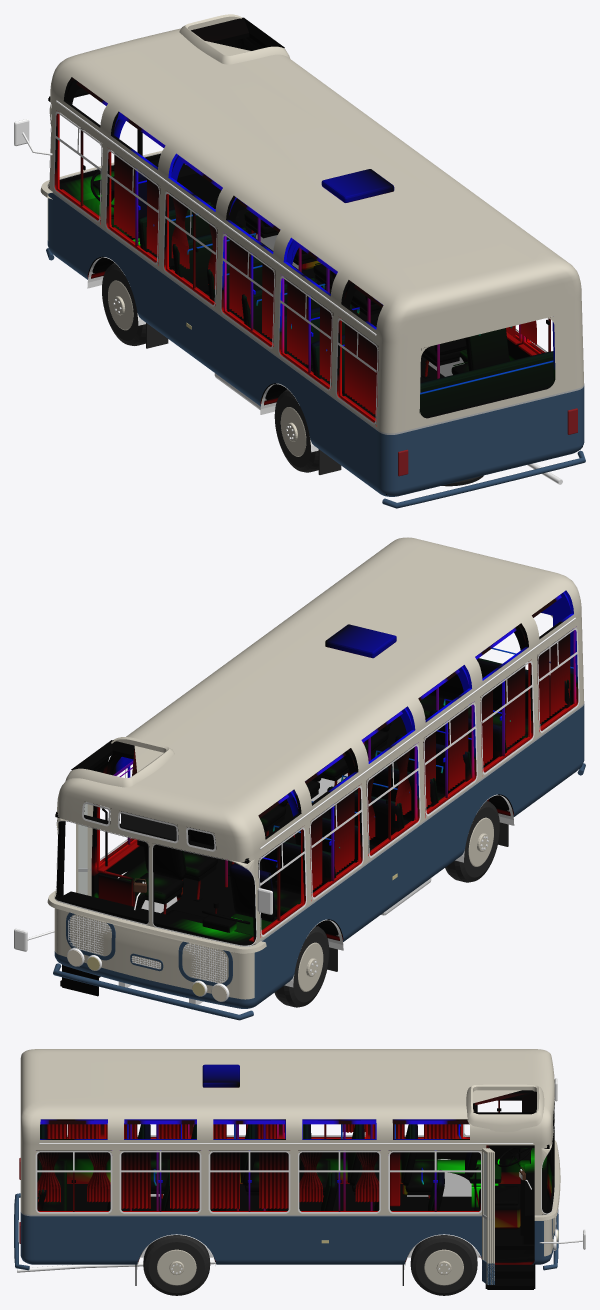
The model's file is Bus_HarnessShell_paz672.fbx.
The picture shows the model from 3 angles, top to bottom: view 1: azimuth 30°, elevation 25°; view 2: azimuth 150°, elevation 25°; view 3: azimuth 270°, elevation 25°; orthographic projection. The views are drawn at different scales.
Parts seen in each view (by area): view 1: Bus_Exterior_LOD0, Cabin_Static, Cabin_Curtains, Wheel_FL, Wheel_RL; view 2: Bus_Exterior_LOD0, Cabin_Static, Cabin_Curtains, Wheel_FL, Wheel_RL, Bus_Door0, Cabin_DestBlind; view 3: Bus_Exterior_LOD0, Cabin_Static, Cabin_Curtains, Wheel_FR, Wheel_RR, Bus_Door3.
Boxes of the visible parts, x1,y1,x2,y2 form: Bus_Exterior_LOD0: (14, 14, 585, 508); Cabin_Static: (48, 17, 582, 494); Cabin_Curtains: (114, 152, 536, 415); Wheel_FL: (102, 262, 145, 345); Wheel_RL: (274, 389, 318, 472); Bus_Exterior_LOD0: (14, 537, 585, 1020); Cabin_Static: (55, 590, 578, 996); Cabin_Curtains: (309, 631, 570, 891); Wheel_FL: (274, 926, 329, 1007); Wheel_RL: (445, 801, 499, 882); Bus_Door0: (76, 802, 89, 895); Cabin_DestBlind: (121, 811, 178, 840); Bus_Exterior_LOD0: (14, 1049, 585, 1285); Cabin_Static: (25, 1064, 554, 1289); Cabin_Curtains: (36, 1124, 455, 1208); Wheel_FR: (410, 1235, 477, 1295); Wheel_RR: (143, 1235, 210, 1295); Bus_Door3: (482, 1148, 488, 1284).
Bounding box in the file's own units: 2.93 × 2.81 × 7.7.
